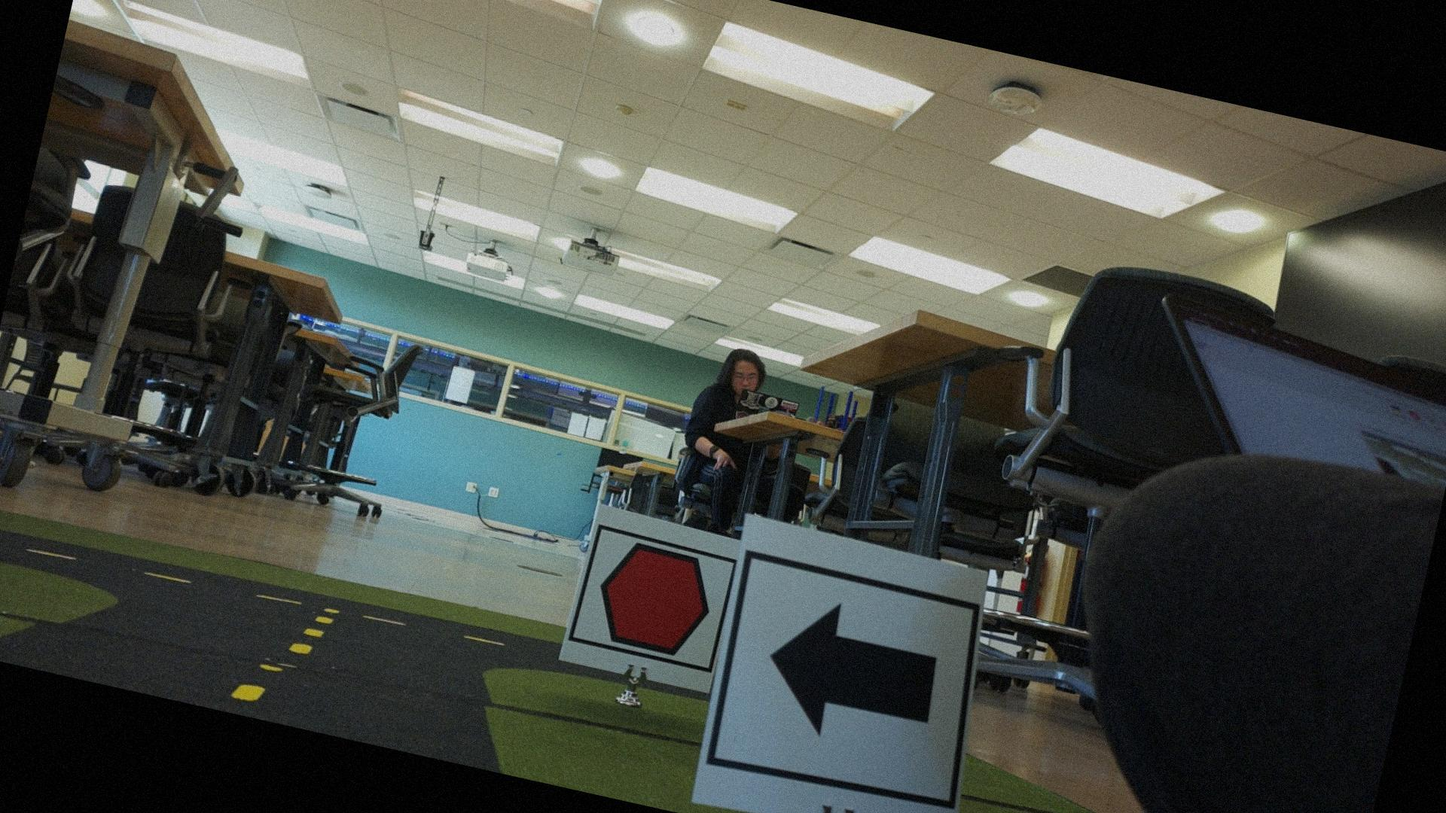stop: (575, 531, 734, 671)
turnright: (702, 557, 981, 812)
yellowline: (231, 601, 334, 720)
